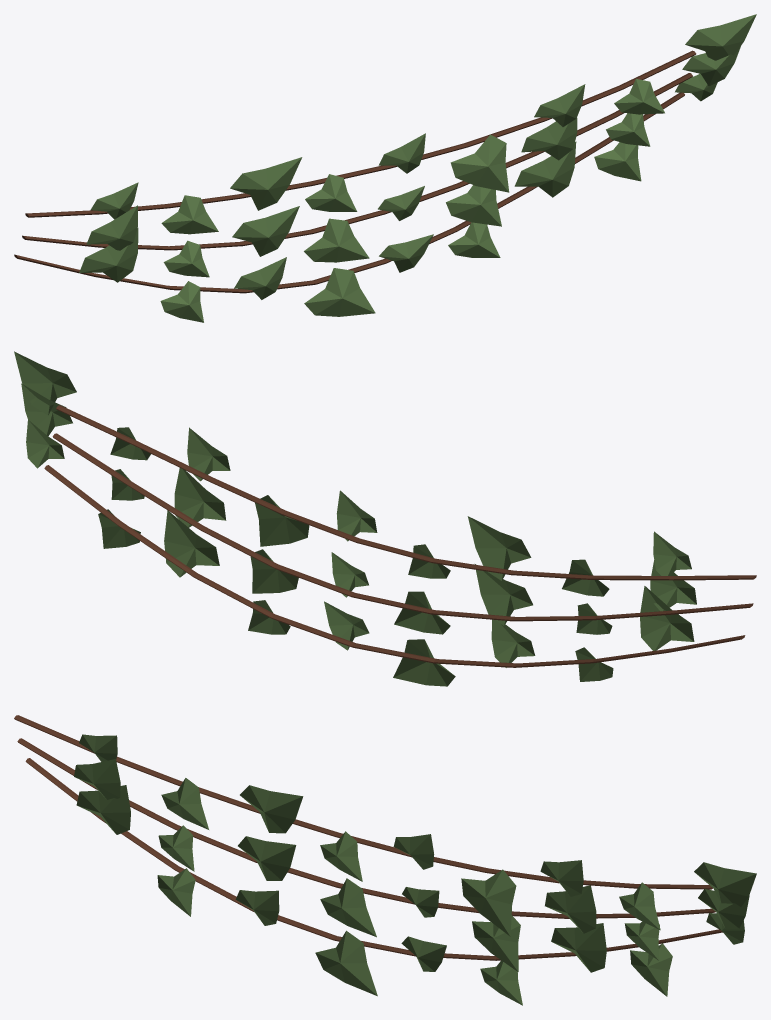
File: sign_ivy_swag.glb
3 views of the same model, one above another, from view 1: azimuth 30°, elevation 25°; view 2: azimuth 150°, elevation 25°; view 3: azimuth 330°, elevation 25° (orthographic). The views are drawn at different scales.
Parts seen in each view (by area): view 1: sign_ivy_swag; view 2: sign_ivy_swag; view 3: sign_ivy_swag.
Boxes of the visible parts, left/top/right/bottom form: sign_ivy_swag: left=14, top=14, right=756, bottom=322; sign_ivy_swag: left=14, top=351, right=756, bottom=686; sign_ivy_swag: left=14, top=715, right=756, bottom=1005.
Size of the model in its own units: 0.7 by 0.2 by 0.052.
